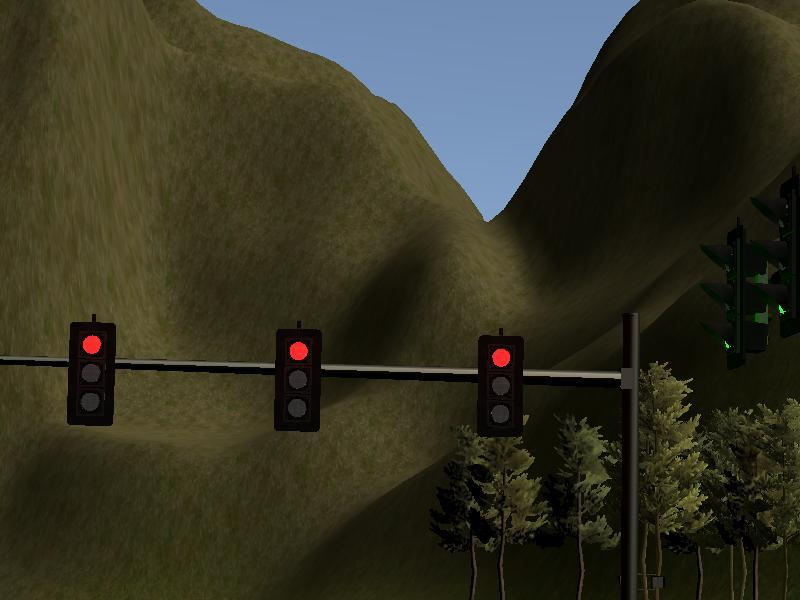Red: (71, 321, 115, 424), (277, 329, 320, 430), (479, 337, 519, 435)
